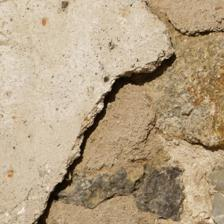Crack: (41, 53, 176, 219)
